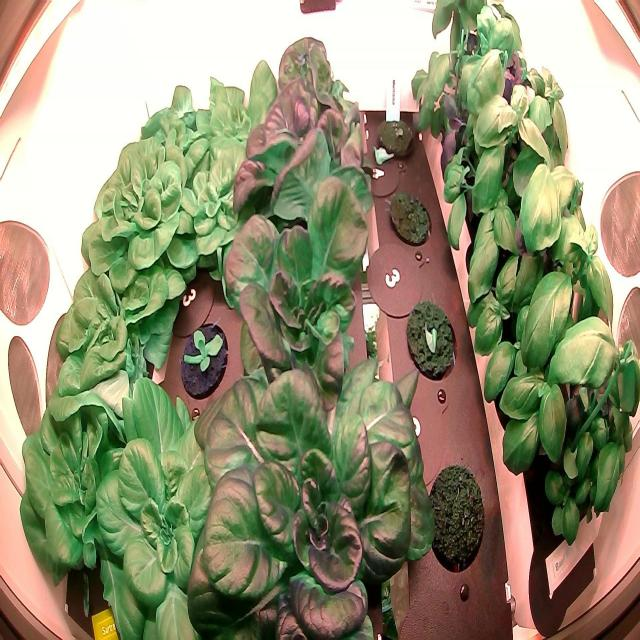Ready: (18, 386, 154, 599), (229, 63, 384, 232), (49, 257, 188, 432), (75, 123, 211, 294), (262, 17, 364, 141), (130, 72, 218, 201)
germination: (372, 99, 424, 165)
pod: (426, 460, 486, 574), (404, 292, 461, 388), (384, 180, 436, 251)
young: (180, 322, 442, 639), (84, 366, 256, 640), (210, 173, 382, 405), (155, 119, 268, 308), (188, 50, 286, 194), (175, 312, 234, 404)
